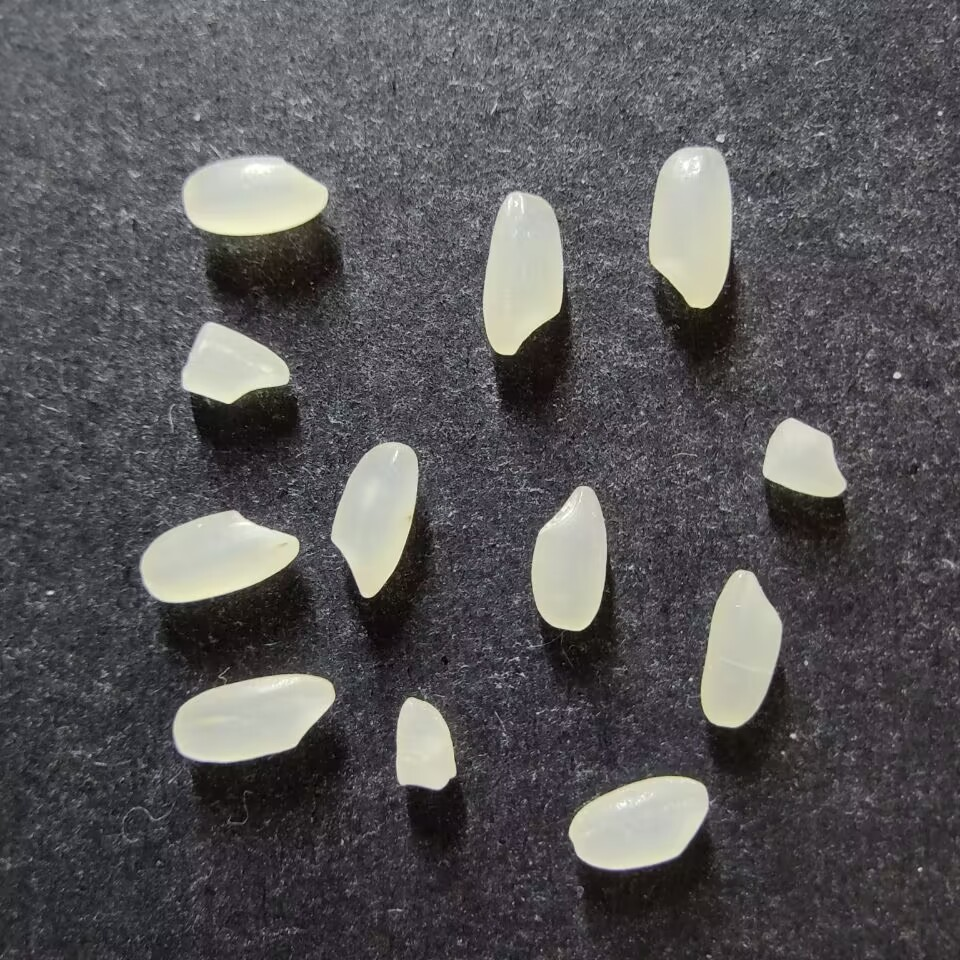broken: (180, 321, 291, 404), (761, 417, 847, 498), (394, 697, 457, 789)
rice: (139, 509, 300, 603), (171, 673, 334, 762), (329, 441, 419, 599), (647, 146, 733, 310), (481, 191, 564, 355), (699, 569, 784, 728), (567, 775, 708, 870), (181, 155, 328, 236), (530, 485, 608, 631)
